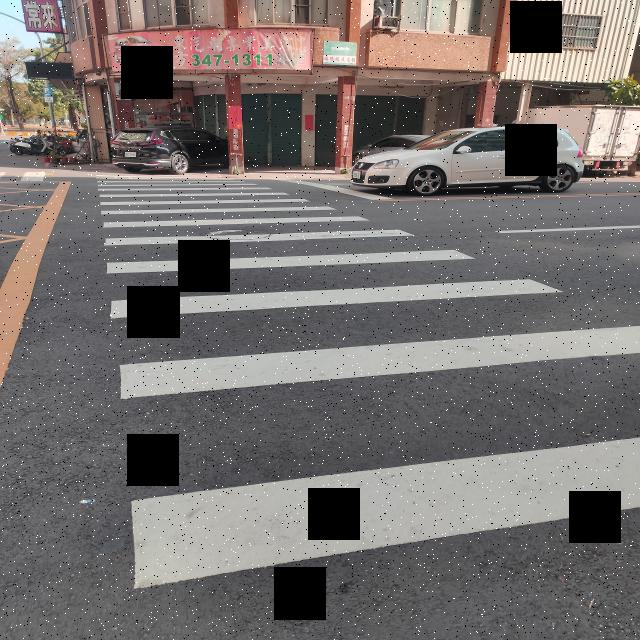zebra crossing: (87, 174, 640, 590)
